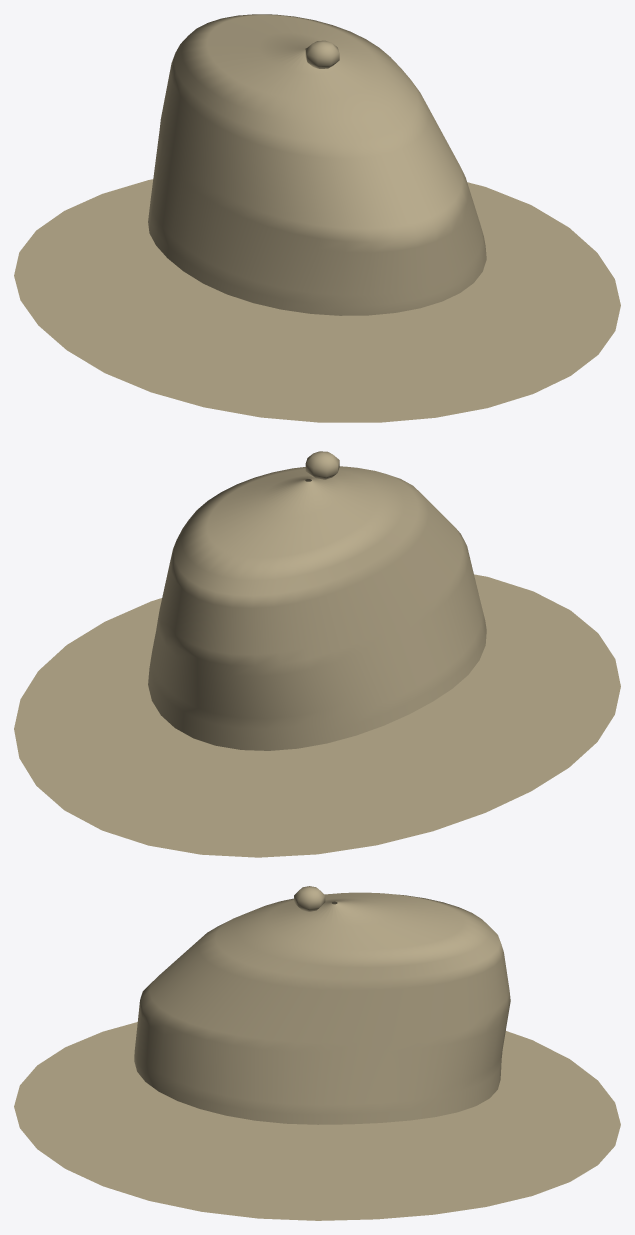
Rendered from bucket_hat_m.glb.
The picture shows the model from 3 angles, top to bottom: view 1: azimuth 30°, elevation 25°; view 2: azimuth 150°, elevation 25°; view 3: azimuth 270°, elevation 25°; orthographic projection. The views are drawn at different scales.
Visible parts, largest first — view 1: hair; view 2: hair; view 3: hair.
Boxes of the visible parts, left/top/right/bottom form: hair: left=14, top=14, right=620, bottom=422; hair: left=14, top=451, right=620, bottom=857; hair: left=14, top=886, right=620, bottom=1220.
Size of the model in its own units: 0.3462 by 0.1743 by 0.4049.
